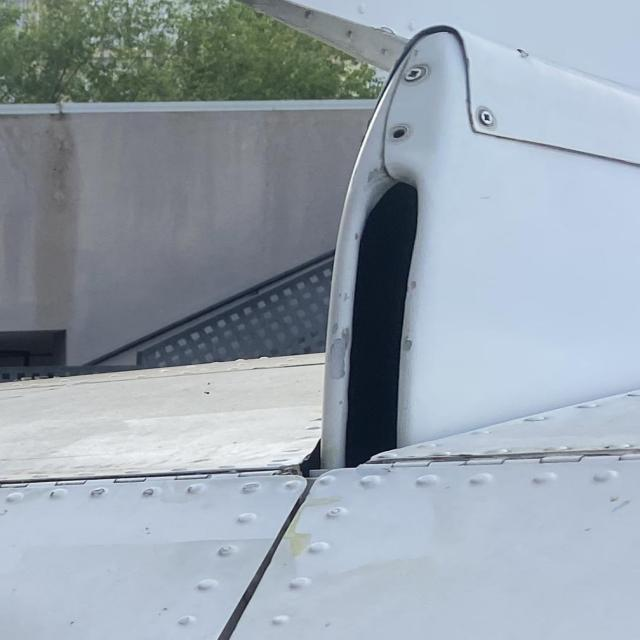Missing-head: (387, 125, 410, 140)
Paint-off: (326, 334, 351, 384), (401, 337, 414, 354), (329, 320, 341, 334), (409, 278, 417, 289), (354, 232, 359, 241)
